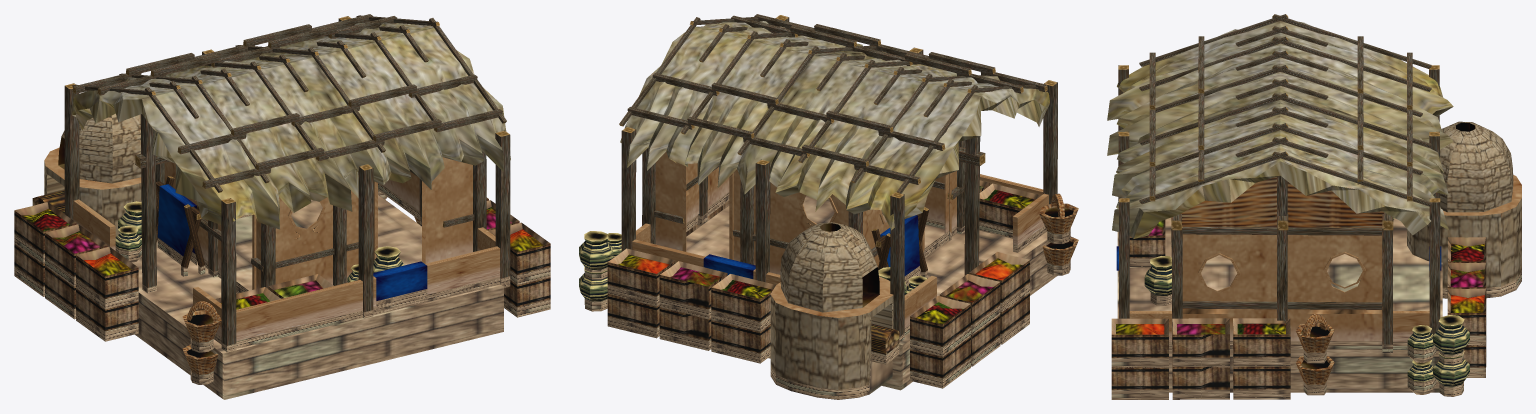
Rendered from farmstead.dae.
3 renders of one model, left to right at view 1: azimuth 30°, elevation 25°; view 2: azimuth 150°, elevation 25°; view 3: azimuth 270°, elevation 25°, orthographic. The views are drawn at different scales.
Parts seen in each view (by area): view 1: farmstead; view 2: farmstead; view 3: farmstead.
Boxes of the visible parts, box(x1,y1,x2,y2) form: farmstead: box(14, 14, 550, 399); farmstead: box(579, 14, 1078, 399); farmstead: box(1107, 14, 1521, 399).
Size of the model in its own units: 17.12 by 16.85 by 11.05.
